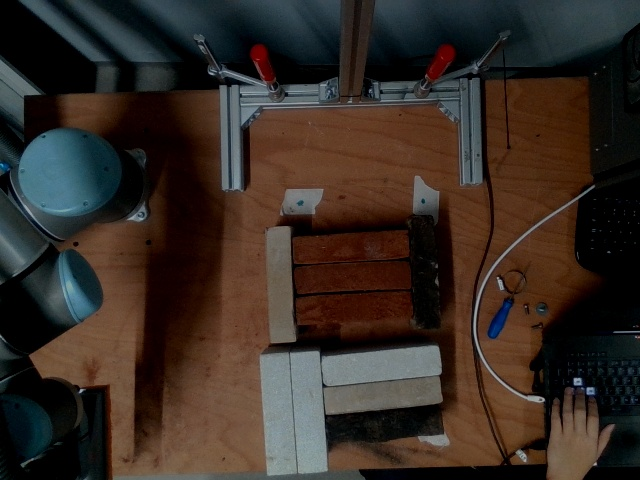brick-side: (320, 346, 441, 385), (323, 375, 442, 414), (326, 405, 441, 444), (260, 352, 296, 475), (291, 351, 326, 474), (297, 290, 411, 326), (293, 230, 408, 265), (295, 261, 410, 296), (264, 227, 295, 342), (408, 216, 439, 330)
